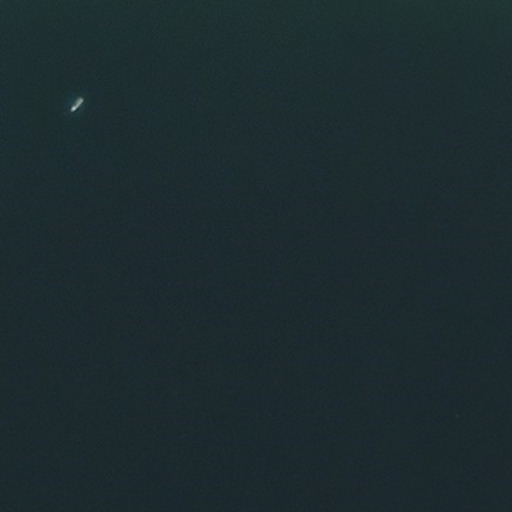ship: (69, 94, 86, 115)
